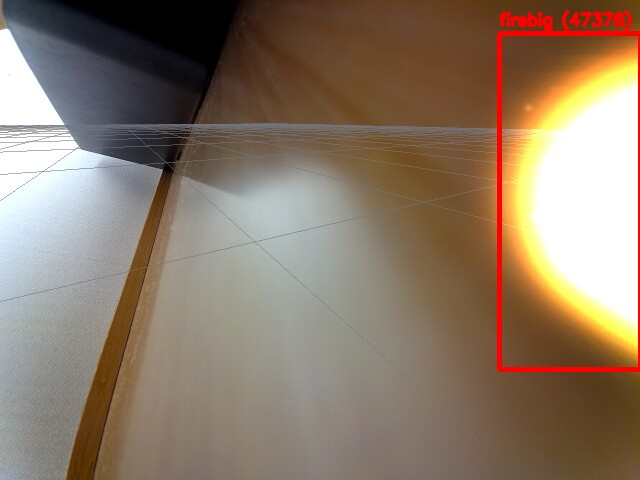firebig: (499, 33, 640, 369)
